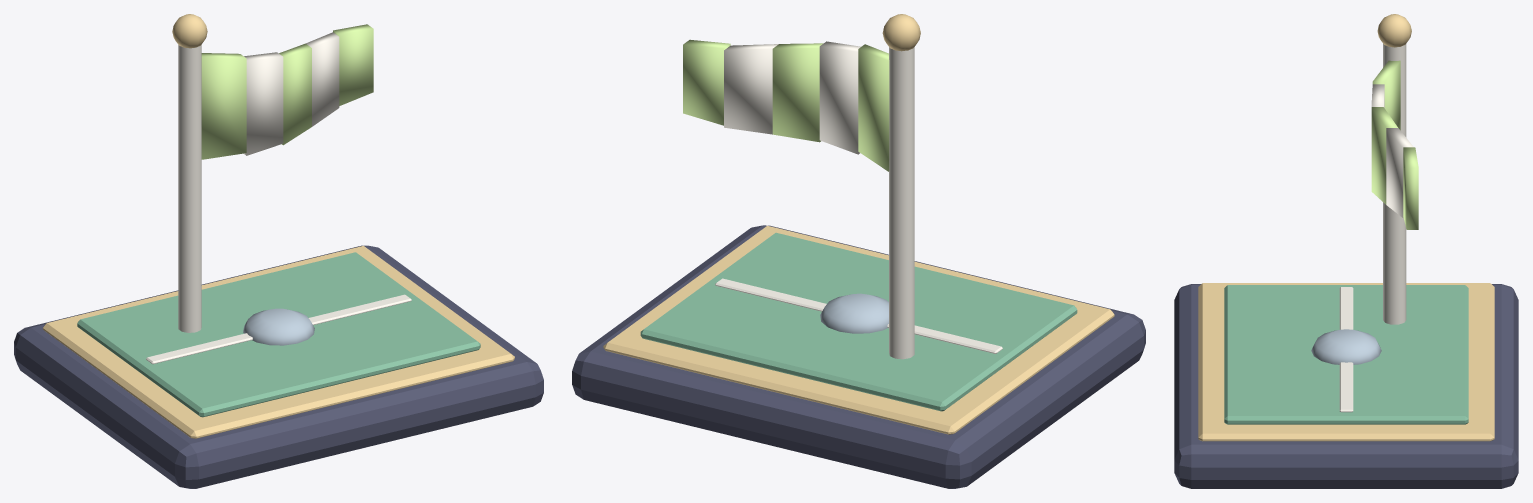
Rendered from club_flag.fbx.
The picture shows the model from 3 angles, left to right: view 1: azimuth 30°, elevation 25°; view 2: azimuth 150°, elevation 25°; view 3: azimuth 270°, elevation 25°; orthographic projection. The views are drawn at different scales.
Visible parts, largest first — view 1: club_flag; view 2: club_flag; view 3: club_flag.
Part boxes in pixels (x1=…): club_flag: x1=14, y1=14, x2=543, y2=488; club_flag: x1=572, y1=14, x2=1145, y2=488; club_flag: x1=1174, y1=14, x2=1518, y2=488.
Bounding box in the file's own units: 2.4 × 2.32 × 2.
